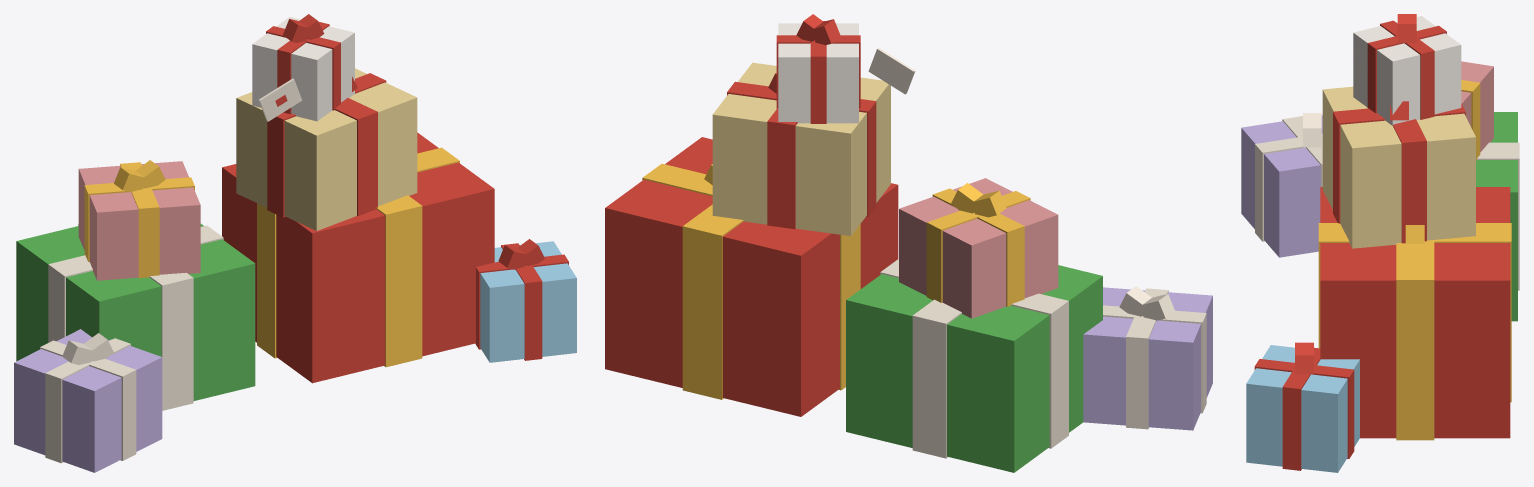
The model's file is CatCafe_Decor_PresentPile.glb.
3 views of the same model, side by side, from view 1: azimuth 30°, elevation 25°; view 2: azimuth 150°, elevation 25°; view 3: azimuth 270°, elevation 25° (orthographic). The views are drawn at different scales.
Visible parts, largest first — view 1: CatCafe_Decor_PresentPile; view 2: CatCafe_Decor_PresentPile; view 3: CatCafe_Decor_PresentPile.
Part boxes in pixels (<box>): CatCafe_Decor_PresentPile: <box>14,14,576,472</box>; CatCafe_Decor_PresentPile: <box>605,14,1212,472</box>; CatCafe_Decor_PresentPile: <box>1241,14,1519,472</box>.
Size of the model in its own units: 4.12 by 2.4 by 1.76.
Materials: 1 (1 with a texture image).
